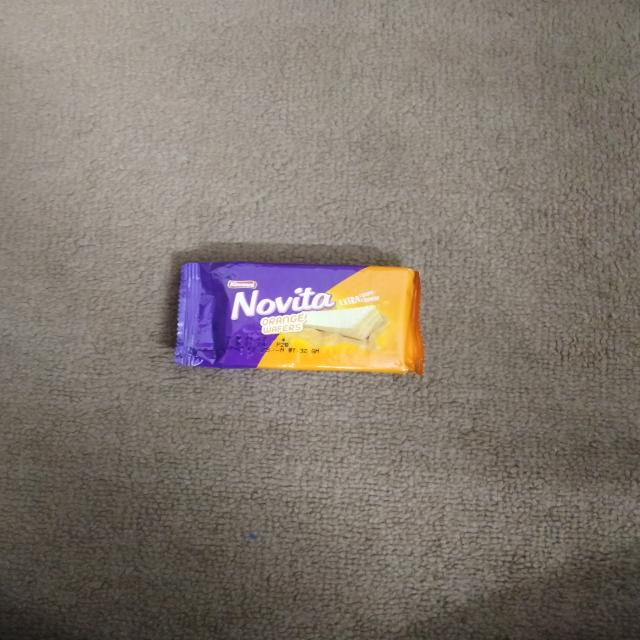Plastic: (167, 251, 436, 381)
